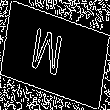M_S: (37, 25, 73, 85)
